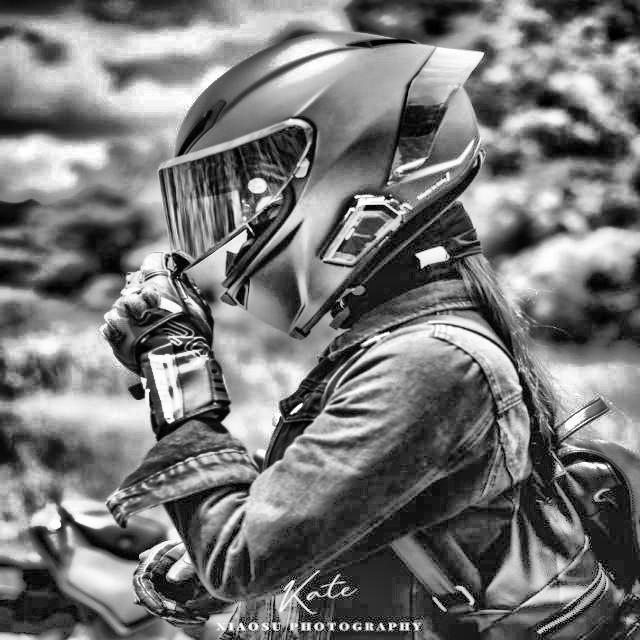Helmet: (152, 22, 492, 346)
